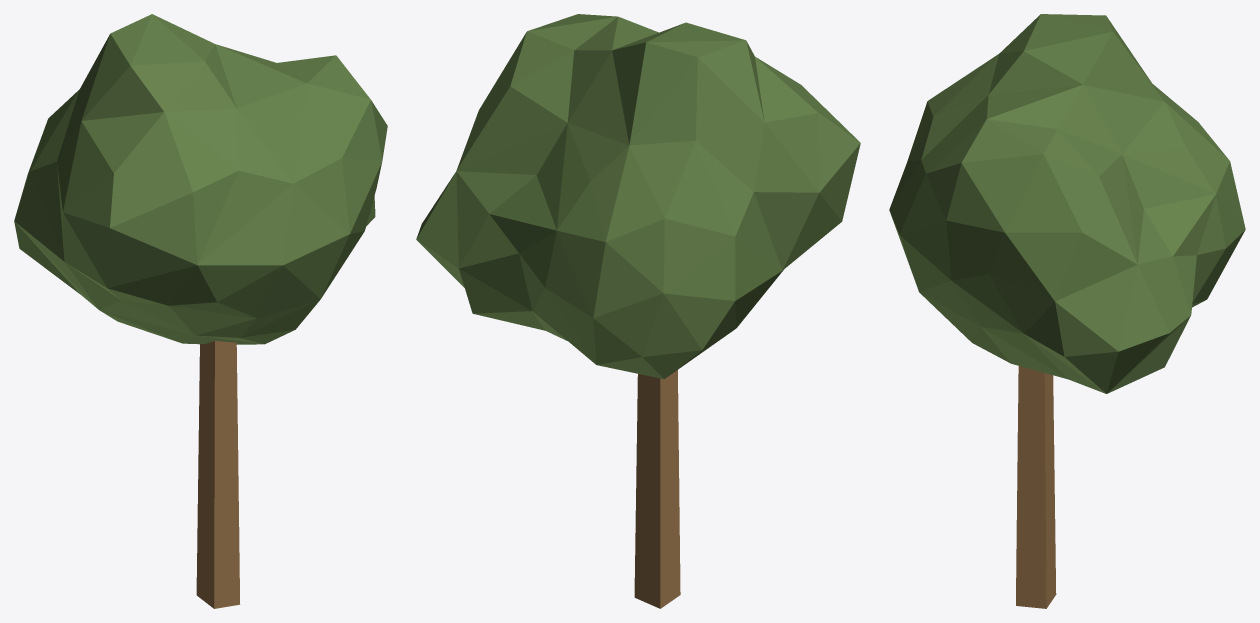
Rendered from PCTree2.fbx.
3 renders of one model, left to right at view 1: azimuth 30°, elevation 25°; view 2: azimuth 150°, elevation 25°; view 3: azimuth 270°, elevation 25°, orthographic. The views are drawn at different scales.
Parts seen in each view (by area): view 1: tree_02; view 2: tree_02; view 3: tree_02.
Part boxes in pixels (box(x1,y1,x2,y2)): tree_02: box(14, 14, 387, 608); tree_02: box(416, 14, 860, 608); tree_02: box(889, 14, 1245, 608).
Bounding box in the file's own units: 239 × 382 × 222.
